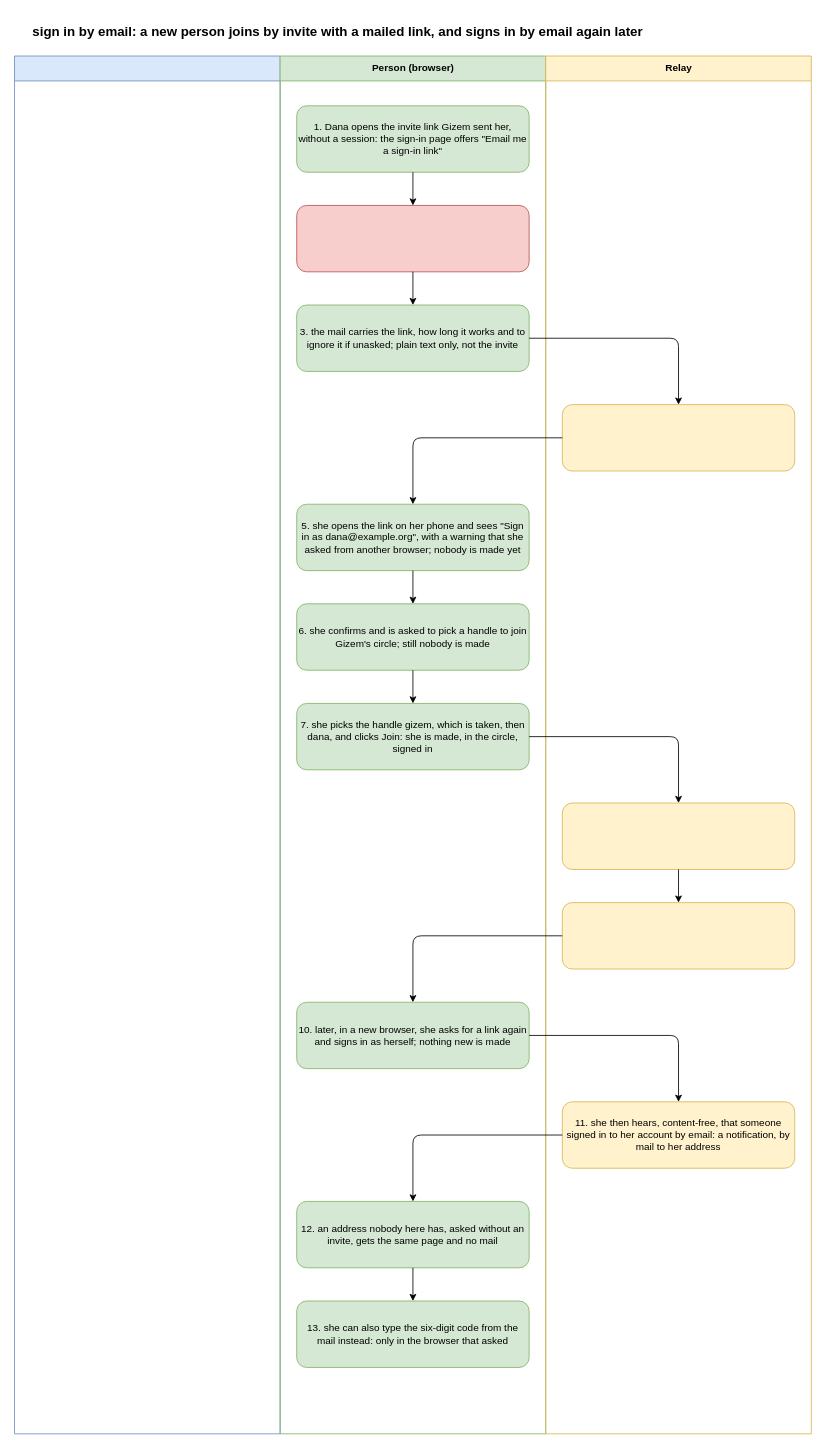
The diagram is 826 pixels wide and 1448 high, and some of its shapes have lost their labels. The centre of each missing label's shape, as x and y in pixels:
"2. she types her address and gets the neutral page; one mail goes to her" goes at point (412, 238).
"4. a mail scanner opening the link first uses nothing up" goes at point (678, 437).
"8. the link does not work twice" goes at point (678, 835).
"9. Settings shows her address, confirmed by the link she opened" goes at point (678, 935).
"Agent (MCP client)" goes at point (147, 744).
